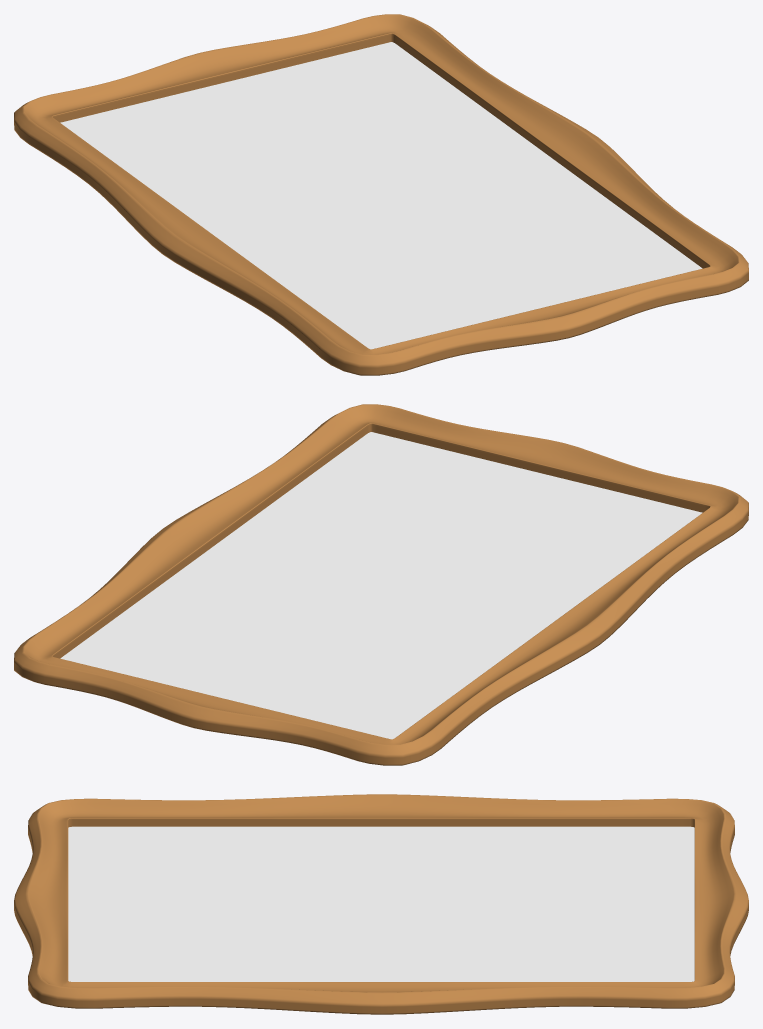
The model's file is bilderrahmen.fbx.
3 views of the same model, one above another, from view 1: azimuth 30°, elevation 25°; view 2: azimuth 150°, elevation 25°; view 3: azimuth 270°, elevation 25° (orthographic).
Visible parts, largest first — view 1: image_plane, rahmen; view 2: image_plane, rahmen; view 3: image_plane, rahmen.
Boxes of the visible parts, x1,y1,x2,y2 form: image_plane: (60, 42, 702, 349); rahmen: (14, 14, 748, 375); image_plane: (60, 432, 702, 739); rahmen: (14, 404, 748, 765); image_plane: (68, 826, 694, 981); rahmen: (14, 794, 748, 1014).
Size of the model in its own units: 128 by 4.86 by 190.
